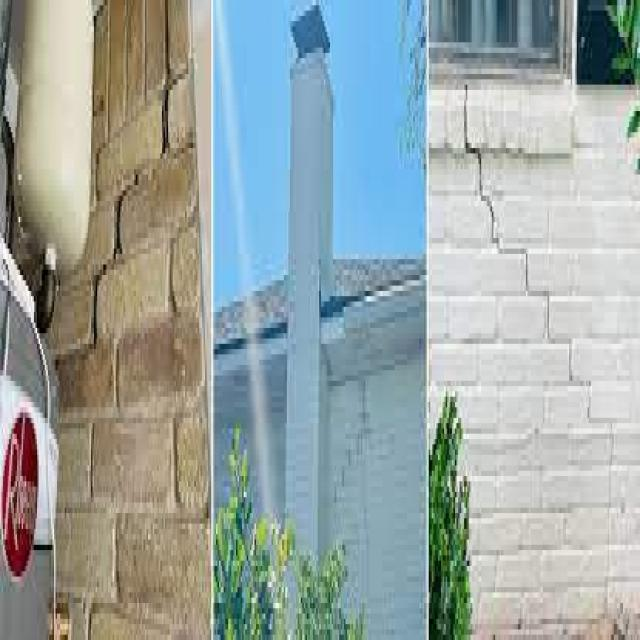Crack: (460, 74, 612, 434), (85, 0, 173, 349)
